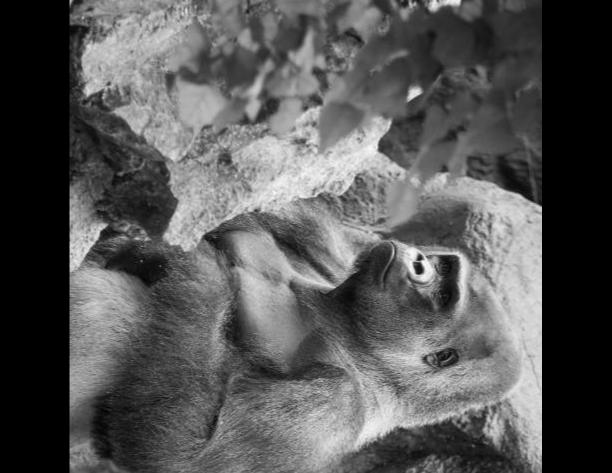gorille_Autres: (69, 147, 532, 473)
